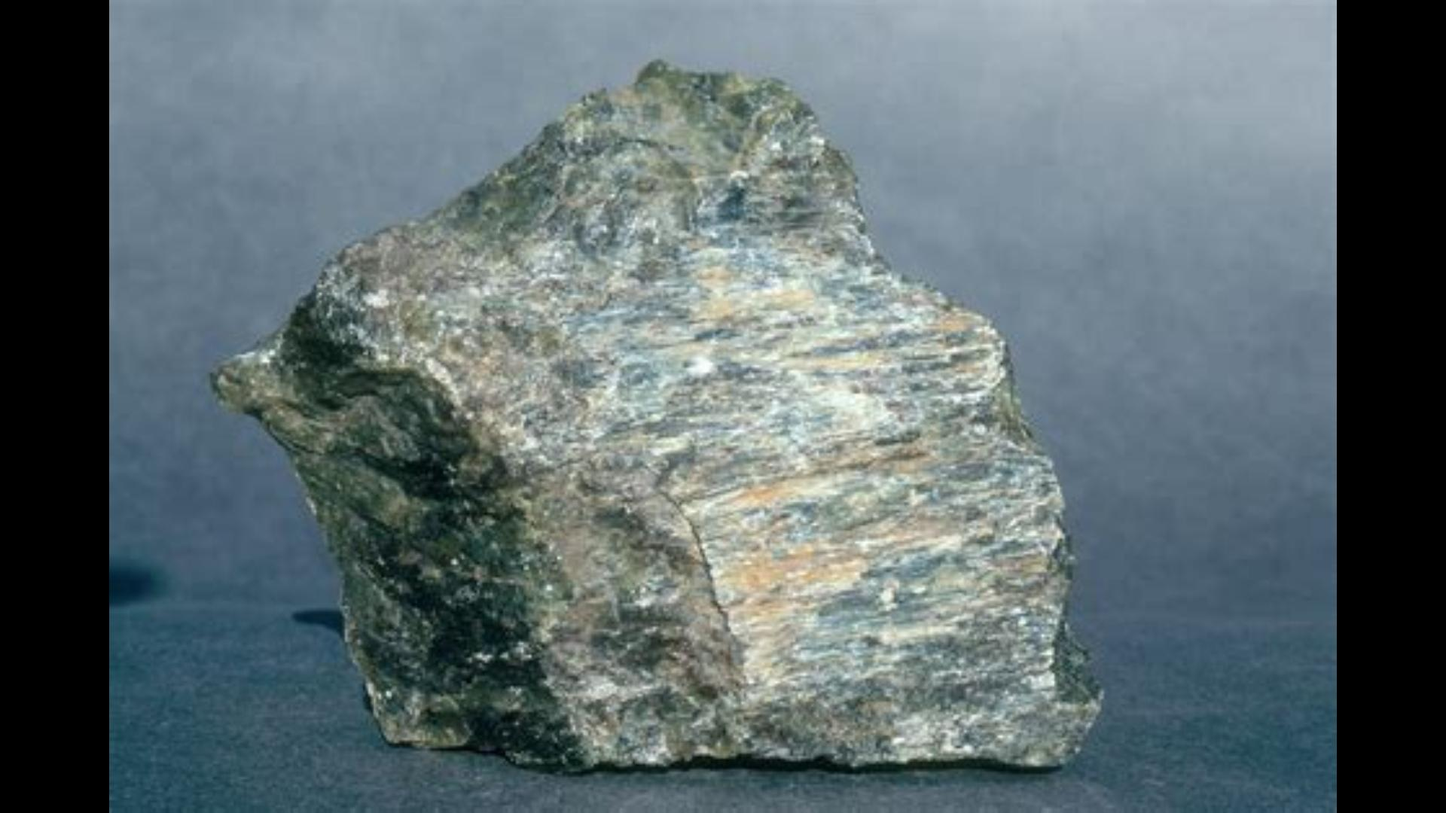rock: (215, 65, 1094, 766)
